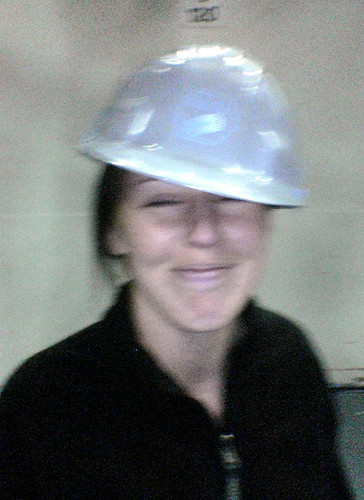person hardhat: (9, 42, 357, 496)
